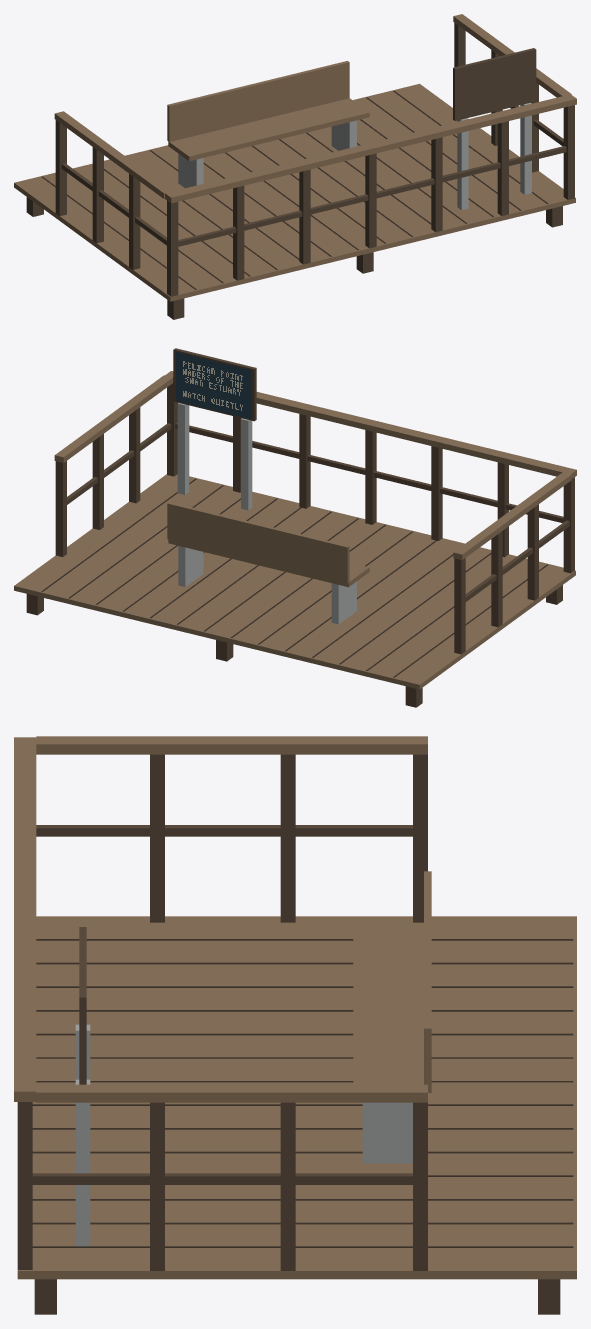
The model's file is pelican_lookout.glb.
3 views of the same model, one above another, from view 1: azimuth 30°, elevation 25°; view 2: azimuth 150°, elevation 25°; view 3: azimuth 270°, elevation 25° (orthographic). The views are drawn at different scales.
Parts seen in each view (by area): view 1: PelicanLookout; view 2: PelicanLookout; view 3: PelicanLookout.
Part boxes in pixels (x1,y1,x2,y2): PelicanLookout: (14,14,576,319); PelicanLookout: (14,348,576,707); PelicanLookout: (14,736,576,1314).
Size of what is drawn, in the model's own units: 4.52 by 1.8 by 3.02.
5 materials, 1 textured.
